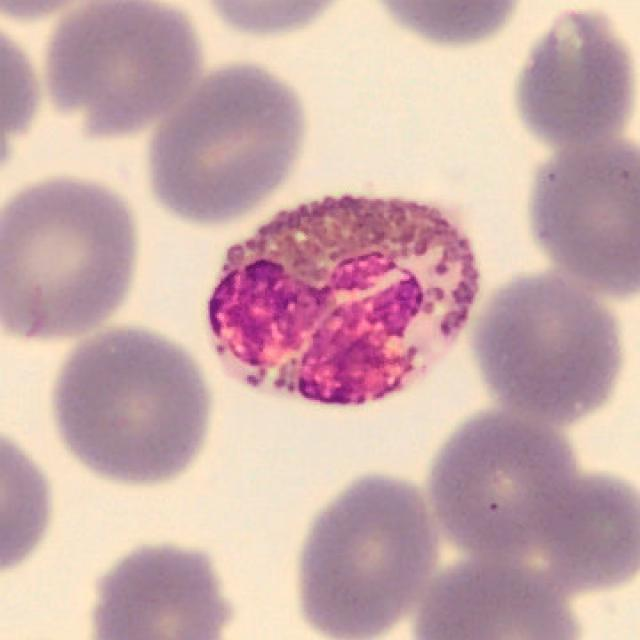Eosinofilo: (208, 197, 480, 407)
